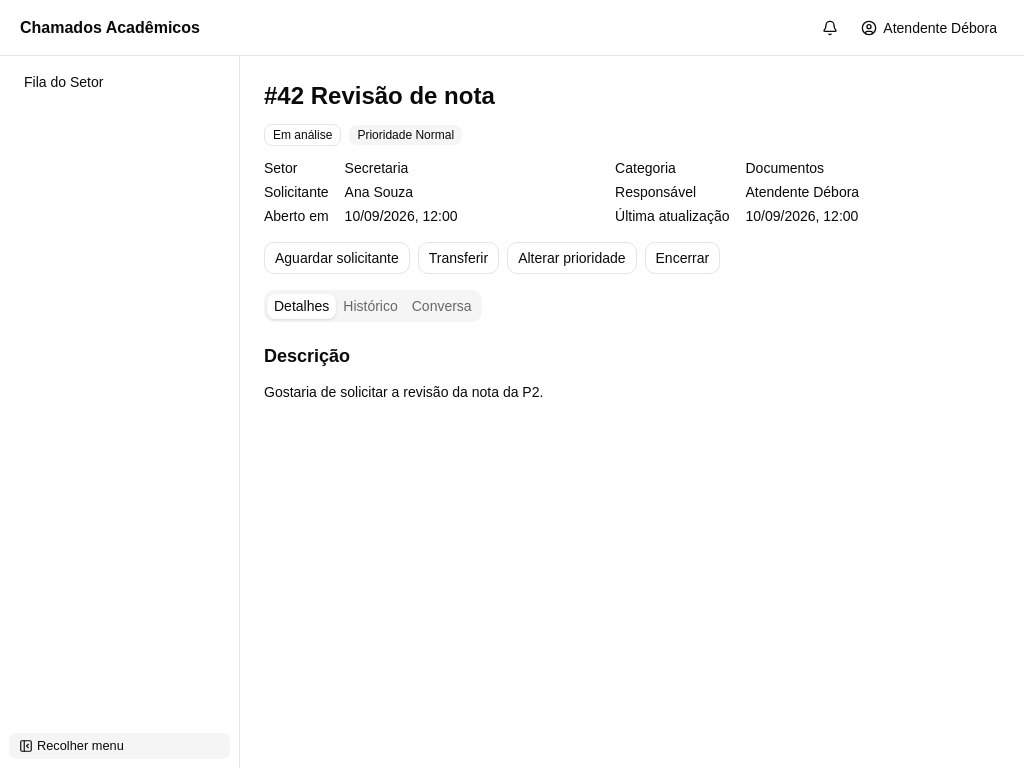
Test: TransferDialog (BR9.7, US2.4) › keeps the dialog open with the translated message when the server refuses
Expected: the heading "#42 Revisão de nota" is shown, [264,82,495,109]
Step 1. Click the button with test id "ticket-actions-transfer-button" → (458, 258), box [418,242,499,274]
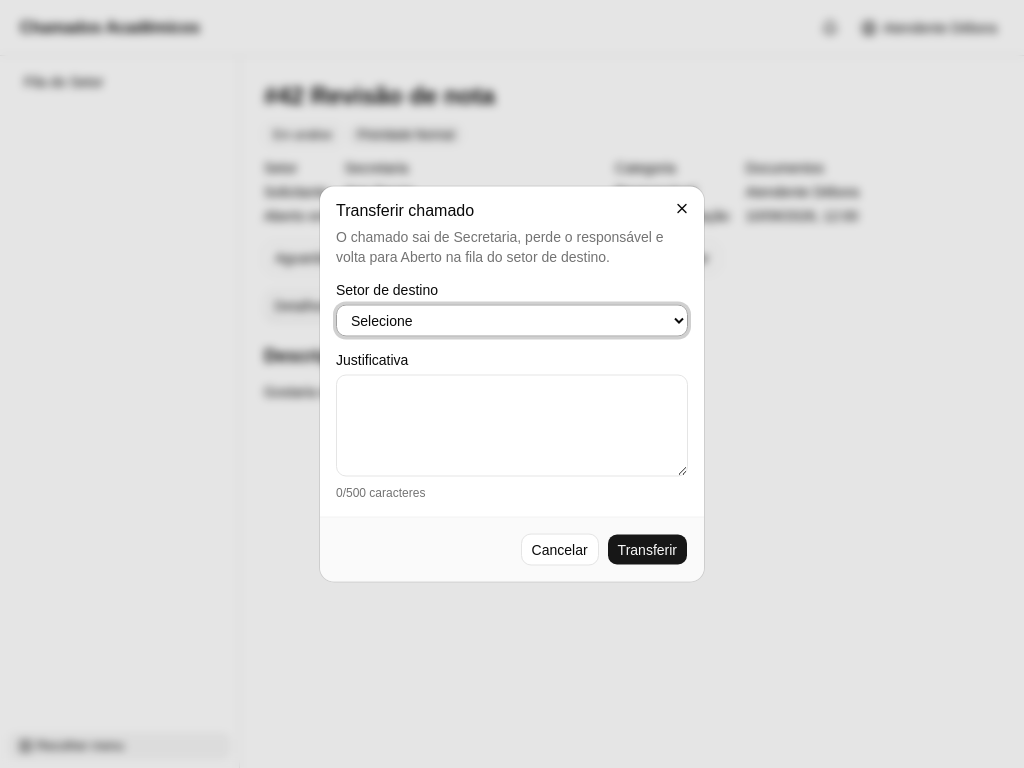
Step 2. Select "Financeiro" in the dropdown labelled "Setor de destino" → (512, 320), box [336,304,688,336]
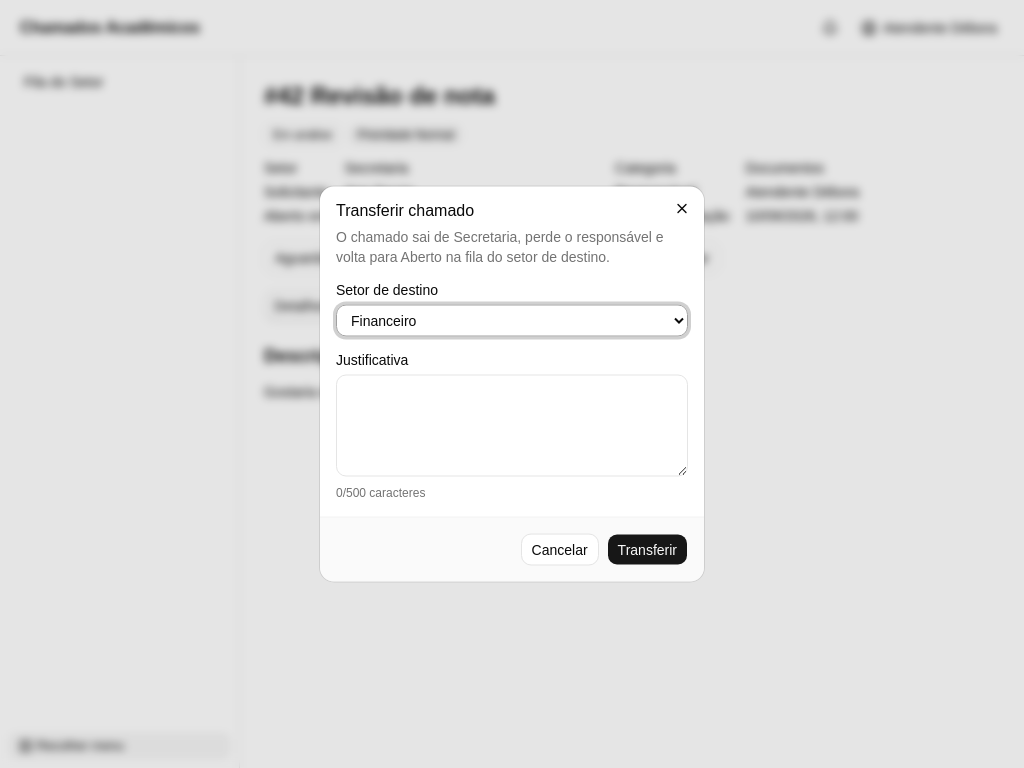
Step 3. Type "Justificativa suficiente." into the text box labelled "Justificativa" → (512, 426), box [336,374,688,476]
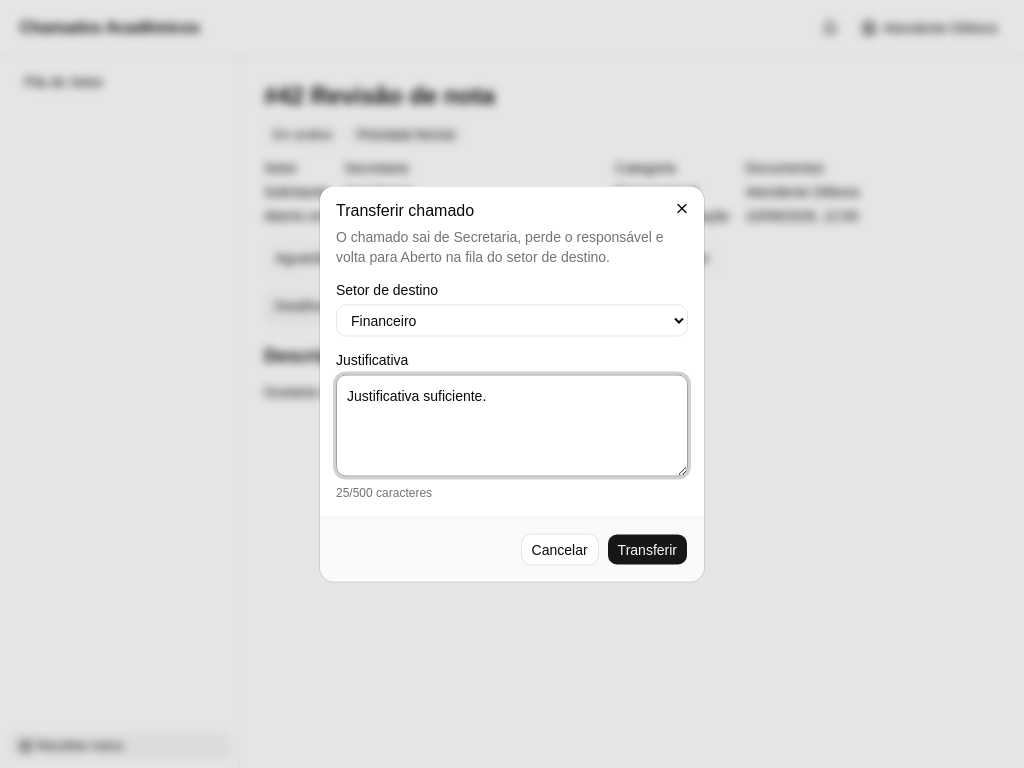
Step 4. Click the button "Transferir" → (647, 550), box [607,534,688,566]
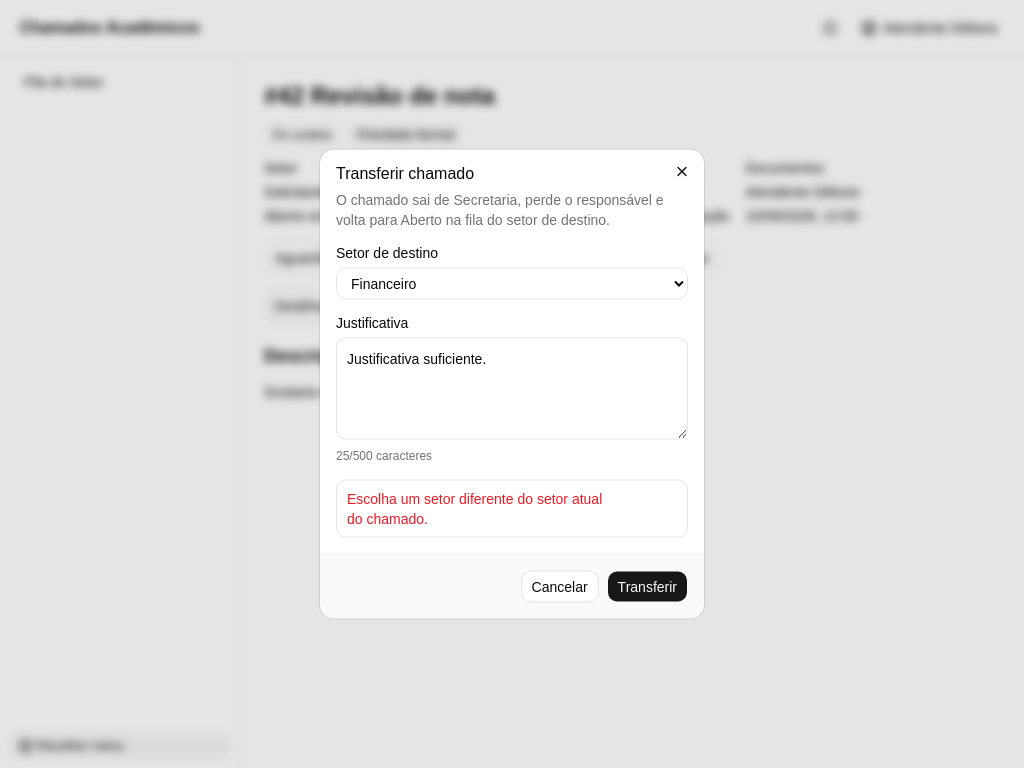
Expected: the dialog "Transferir chamado" is shown, [320,150,704,618]
Expected: the message reads "Escolha um setor diferente do setor atual do chamado.", [347,490,602,526]
